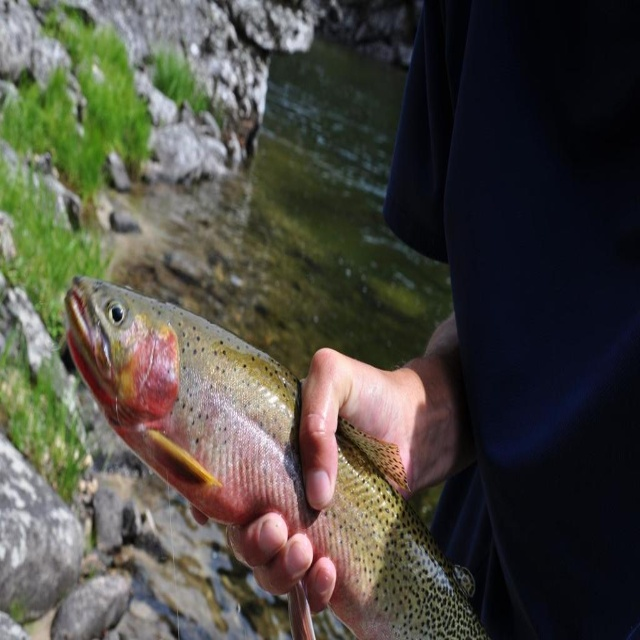Fish: (64, 276, 492, 640)
